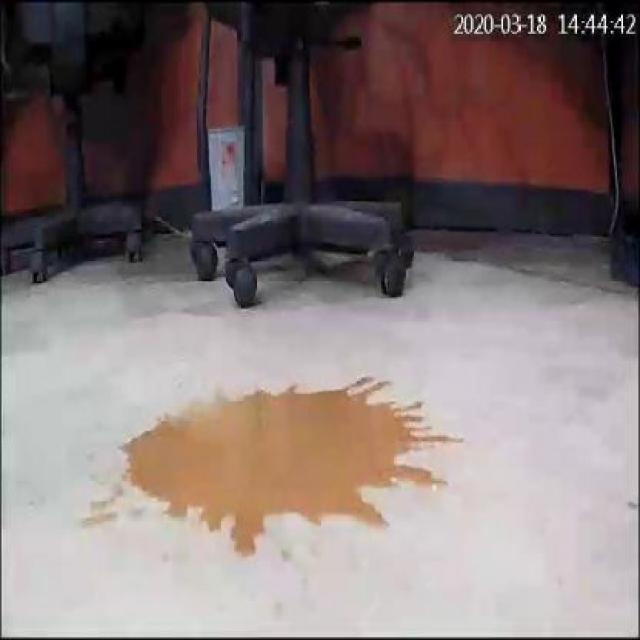spill: (117, 372, 465, 548)
